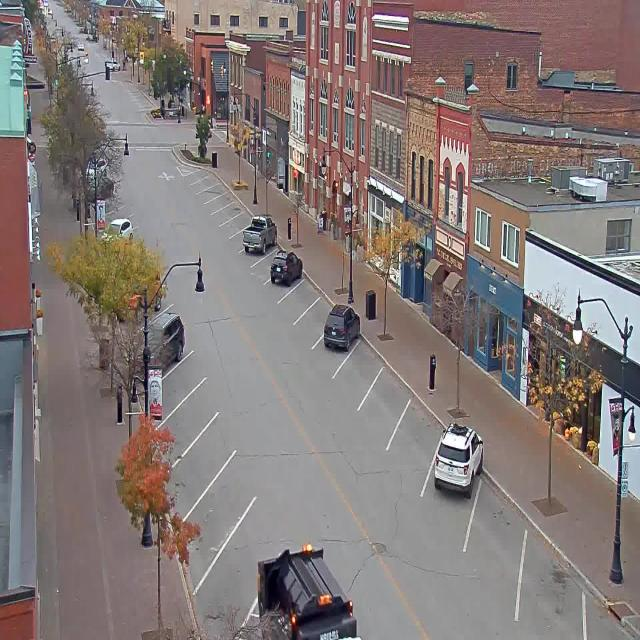available: (514, 522, 593, 638), (220, 488, 293, 603), (465, 467, 530, 582), (200, 437, 268, 535), (188, 403, 241, 477), (395, 399, 449, 470), (174, 367, 222, 439), (364, 364, 414, 428), (160, 340, 209, 403), (580, 585, 633, 640), (340, 337, 383, 397), (283, 271, 316, 310), (252, 228, 280, 268), (300, 298, 330, 334), (198, 169, 218, 193), (233, 210, 252, 233), (208, 177, 224, 202), (225, 198, 242, 220), (216, 189, 232, 211), (190, 162, 204, 182)
occupied: (434, 421, 484, 498), (142, 304, 185, 364), (323, 303, 360, 351), (242, 213, 277, 254), (270, 249, 302, 286)
